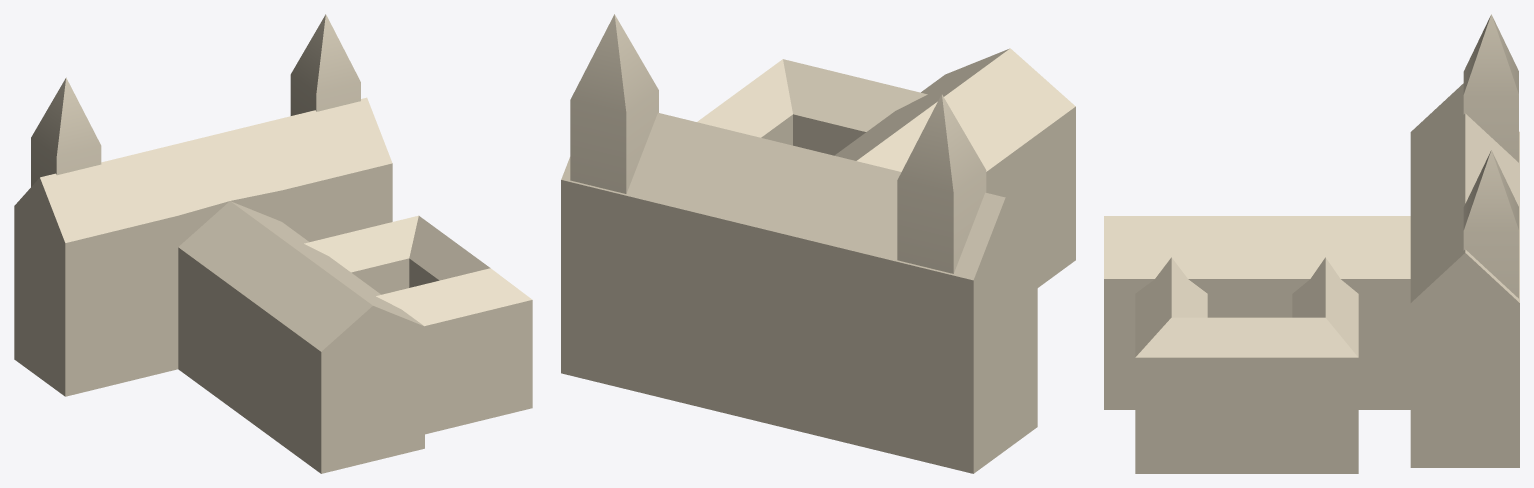
Rendered from SM_Royal_College_of_Music.fbx.
3 renders of one model, left to right at view 1: azimuth 30°, elevation 25°; view 2: azimuth 150°, elevation 25°; view 3: azimuth 270°, elevation 25°, orthographic. The views are drawn at different scales.
Visible parts, largest first — view 1: SM_Royal_College_of_Music; view 2: SM_Royal_College_of_Music; view 3: SM_Royal_College_of_Music.
Part boxes in pixels (<box>): SM_Royal_College_of_Music: <box>14,14,532,473</box>; SM_Royal_College_of_Music: <box>561,14,1075,473</box>; SM_Royal_College_of_Music: <box>1104,14,1519,473</box>.
Bounding box in the file's own units: 61.26 × 48.82 × 60.77.
